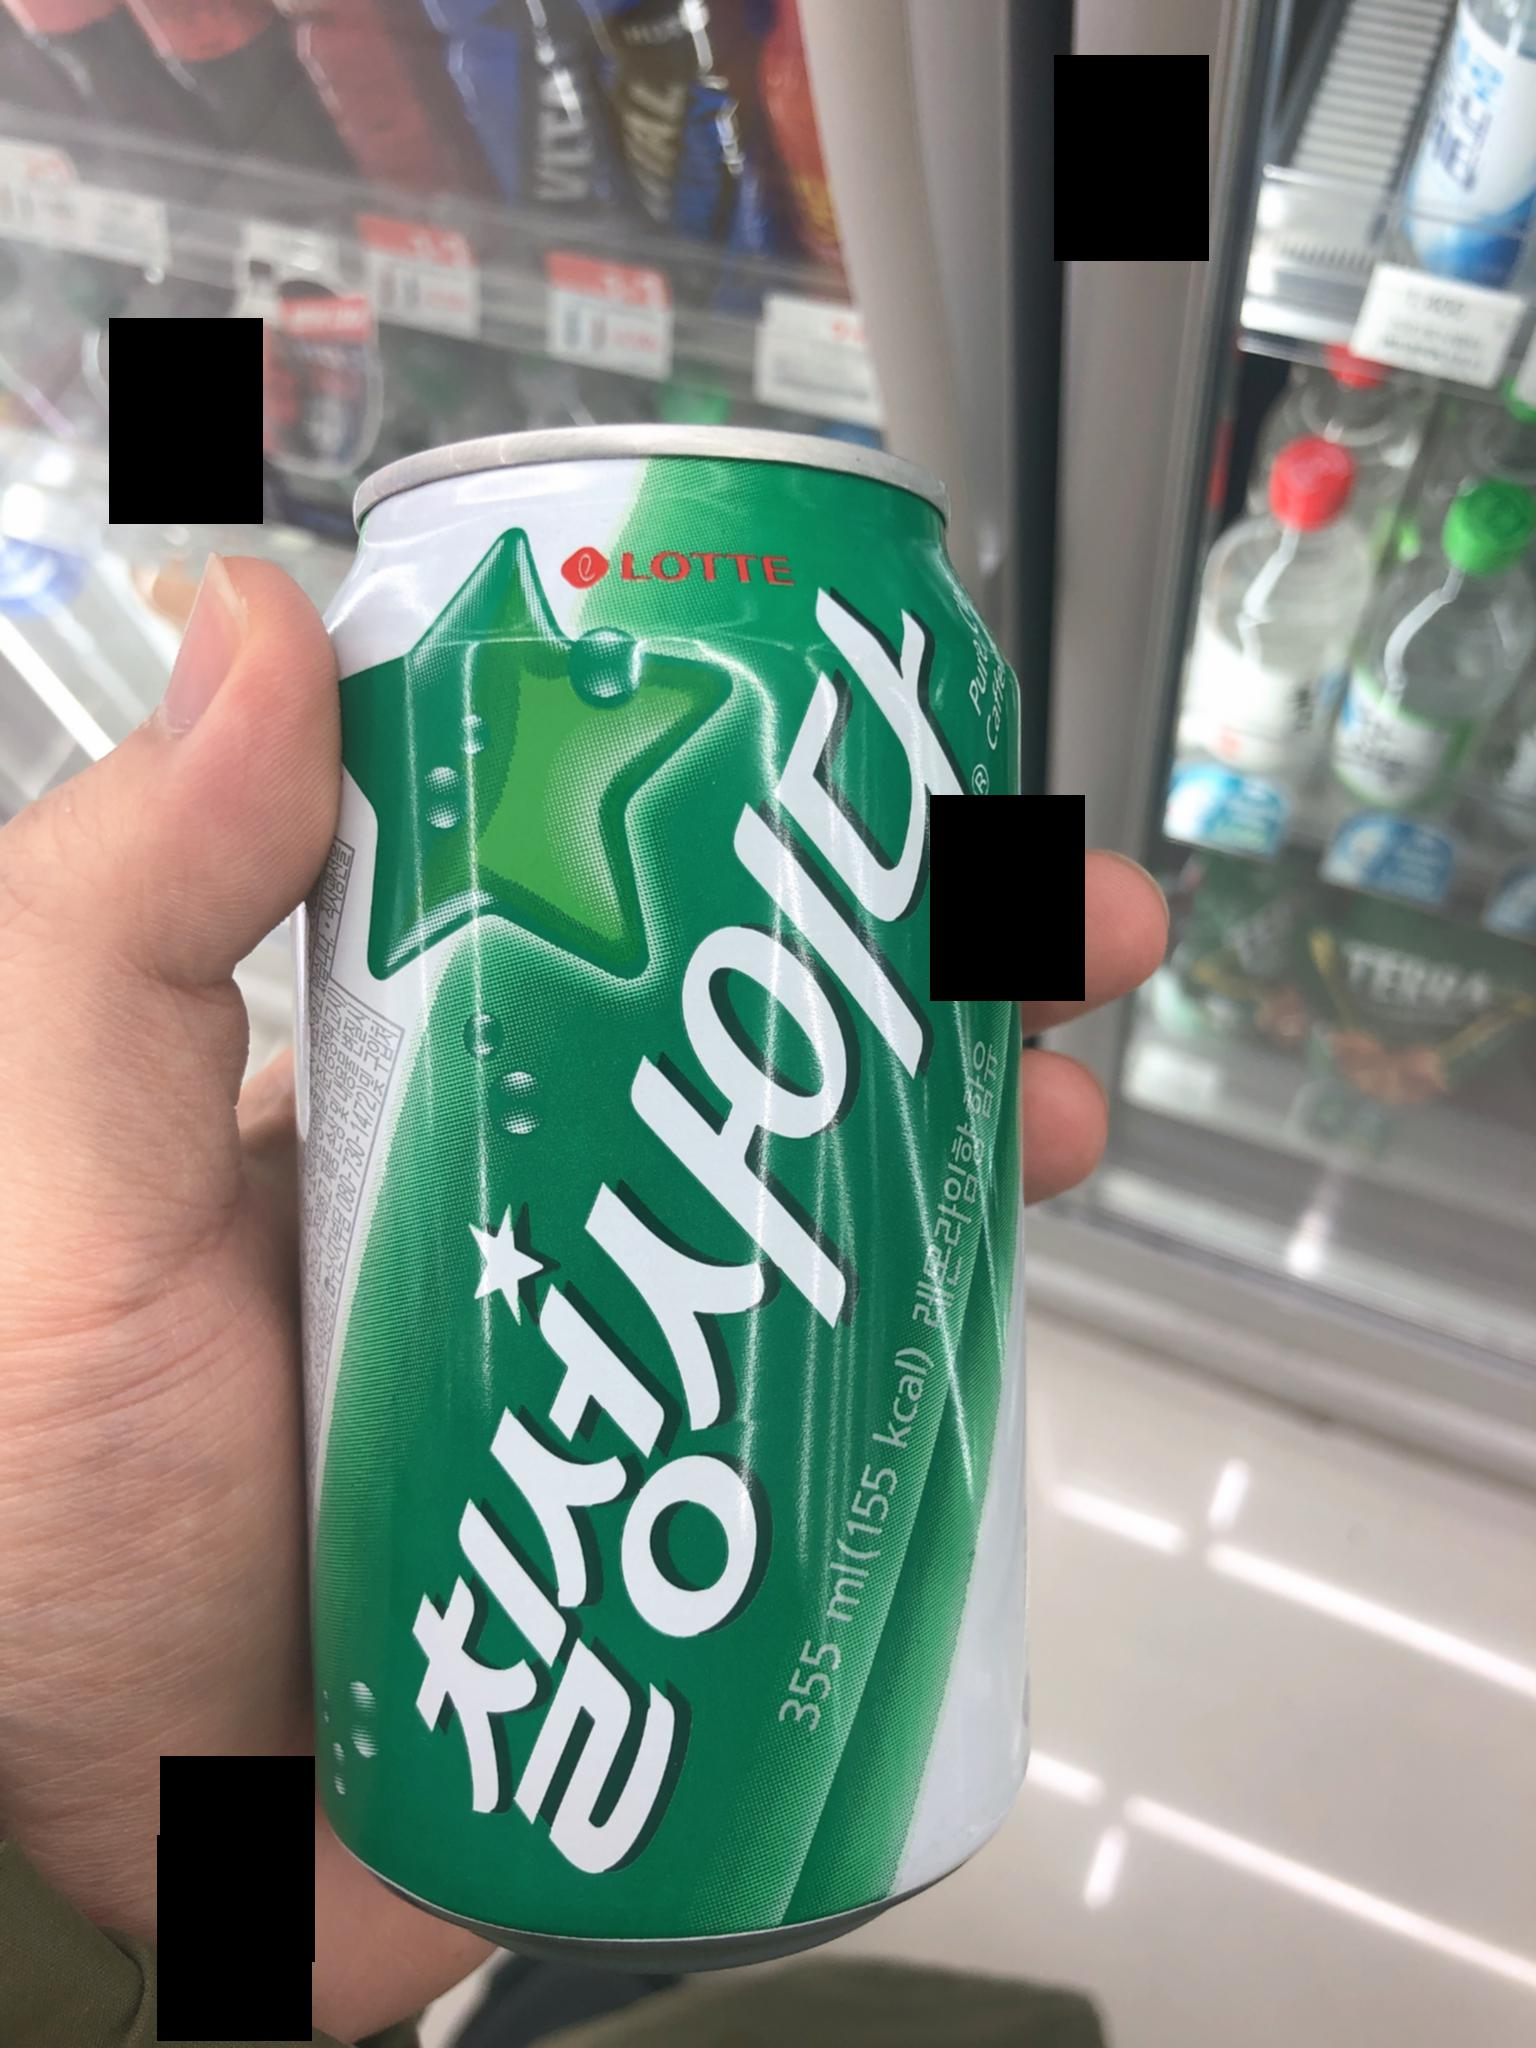chilsungcider: (245, 348, 1081, 1983)
